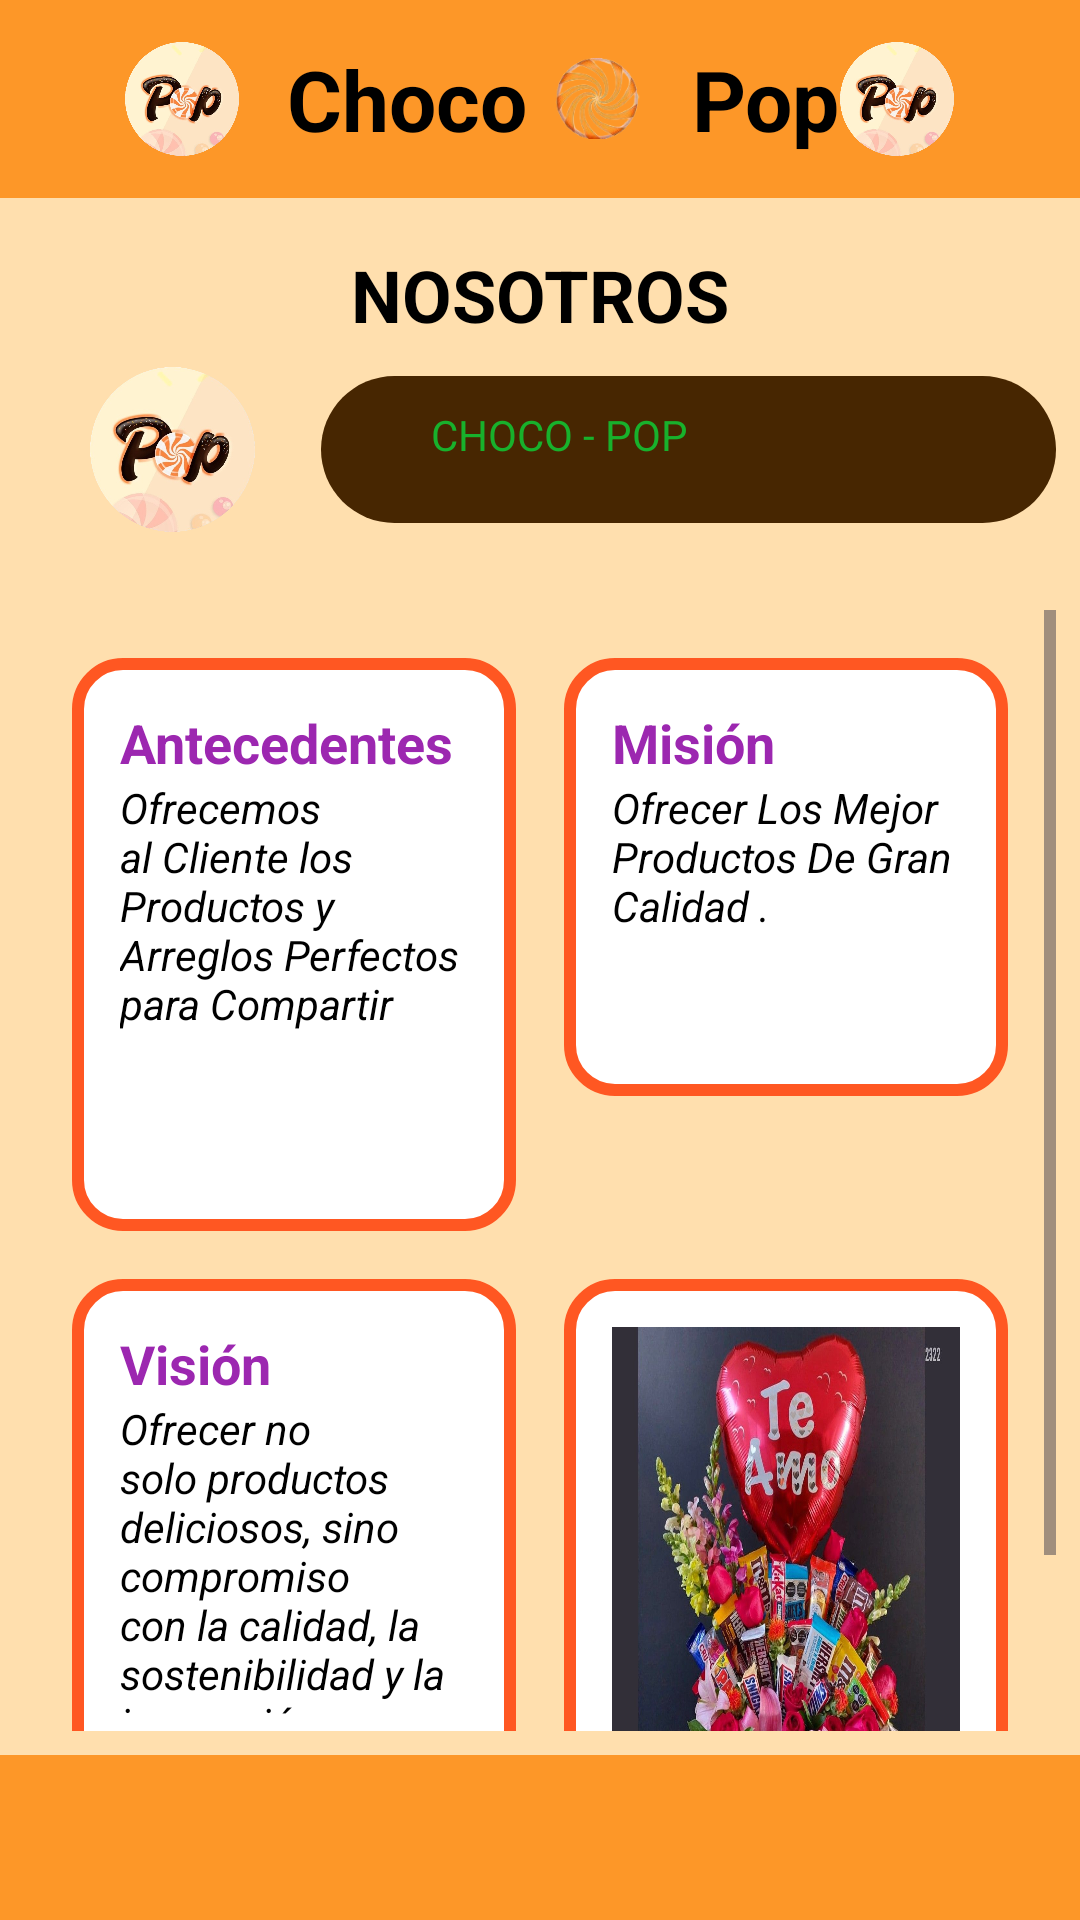

Screen size 1080*1920. Icon name, then its box in pixels as (x1, y1, x2, y2):
paleta: (556, 58, 639, 139)
